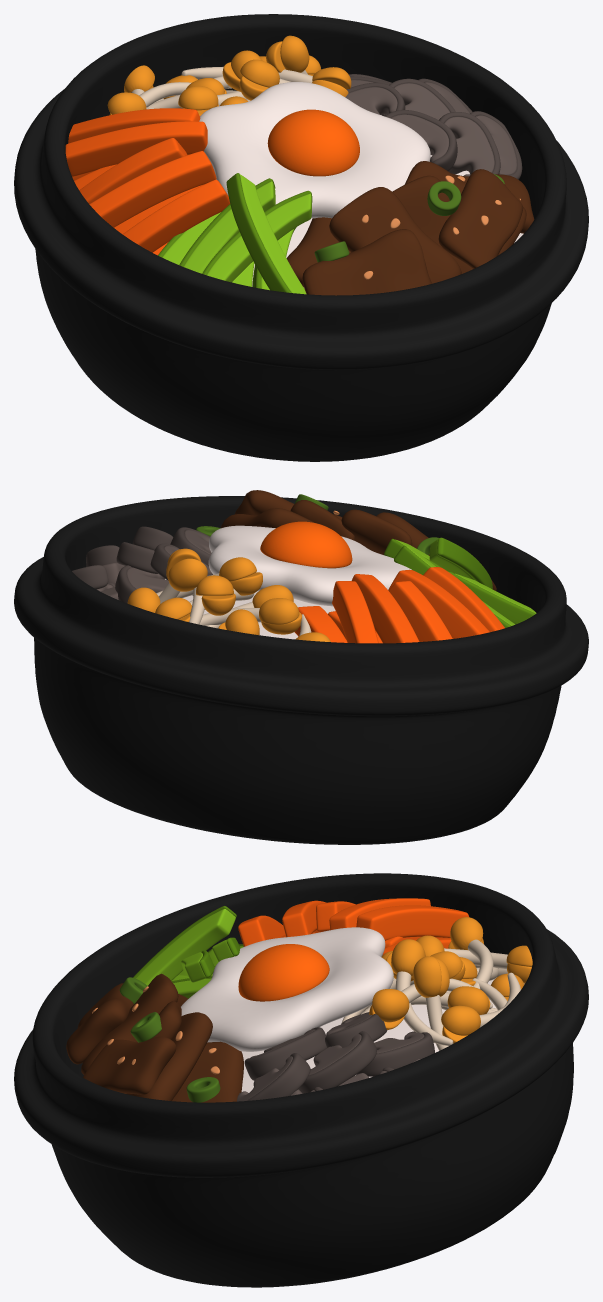
3 views of the same model, one above another, from view 1: azimuth 30°, elevation 25°; view 2: azimuth 150°, elevation 25°; view 3: azimuth 270°, elevation 25° (orthographic).
Visible parts, largest first — view 1: Circle.047, Circle.162, Cube.049, Cube.051, Sphere.048, Cube.048, Cube.043, Cube.041, Plane.054, Cube.064, Plane.053, Plane.046 (+20 smaller); view 2: Circle.047, Circle.162, Sphere.048, Cube.041, Cube.043, Cube.040, Cube.042, Cube.048, Plane.053, Plane.054, Cube.064, Plane.044 (+23 smaller); view 3: Circle.047, Circle.162, Sphere.048, Cube.051, Plane.054, Cube.040, Cube.046, Plane.045, Cube.049, Cube.045, Cube.048, Plane.044 (+22 smaller).
Boxes of the visible parts, x1,y1,x2,y2 form: Circle.047: (14, 14, 588, 461); Circle.162: (199, 82, 430, 218); Cube.049: (302, 229, 431, 295); Cube.051: (438, 169, 523, 268); Sphere.048: (267, 109, 359, 176); Cube.048: (329, 187, 461, 283); Cube.043: (89, 151, 216, 227); Cube.041: (65, 121, 207, 176); Plane.054: (226, 173, 306, 294); Cube.064: (123, 179, 230, 252); Plane.053: (202, 190, 312, 282); Plane.046: (439, 112, 500, 176); Circle.047: (14, 496, 588, 844); Circle.162: (208, 525, 411, 606); Sphere.048: (260, 521, 352, 568); Cube.041: (351, 574, 419, 643); Cube.043: (388, 569, 489, 638); Cube.040: (332, 581, 378, 643); Cube.042: (388, 581, 452, 641); Cube.048: (341, 509, 412, 554); Plane.053: (384, 538, 536, 624); Plane.054: (429, 537, 492, 589); Cube.064: (423, 567, 504, 632); Plane.044: (115, 565, 168, 603); Circle.047: (14, 873, 588, 1287); Circle.162: (181, 927, 393, 1051); Sphere.048: (238, 944, 329, 1001); Cube.051: (83, 1036, 176, 1094); Plane.054: (133, 906, 236, 985); Cube.040: (356, 905, 468, 940); Cube.046: (127, 1012, 212, 1100); Plane.045: (298, 1031, 376, 1093); Cube.049: (66, 983, 133, 1064); Cube.045: (172, 1041, 243, 1102); Cube.048: (81, 973, 178, 1074); Plane.044: (356, 1031, 434, 1076).
Size of the model in its own units: 3.23 by 1.78 by 3.19.
